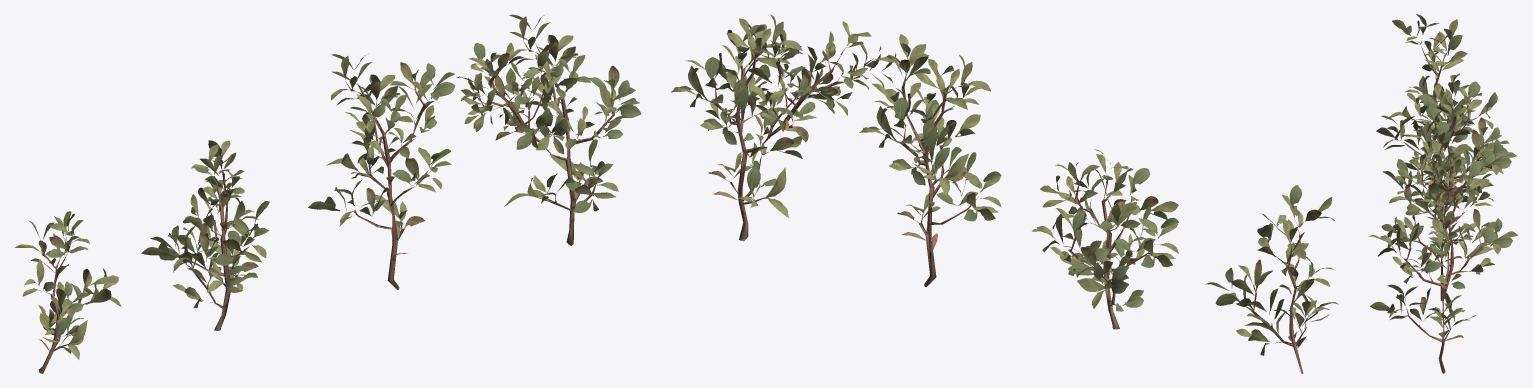
Rendered from shrub_04_1k.gltf.
The picture shows the model from 3 angles, left to right: view 1: azimuth 30°, elevation 25°; view 2: azimuth 150°, elevation 25°; view 3: azimuth 270°, elevation 25°; orthographic projection. The views are drawn at different scales.
Parts seen in each view (by area): view 1: shrub_04; view 2: shrub_04; view 3: shrub_04.
Boxes of the visible parts, box(x1,y1,x2,y2) form: shrub_04: box(15, 14, 641, 373); shrub_04: box(671, 14, 1338, 373); shrub_04: box(1369, 14, 1518, 373).
Bounding box in the file's own units: 0.5837 × 0.2192 × 0.1461.
Materials: 1 (1 with a texture image).
